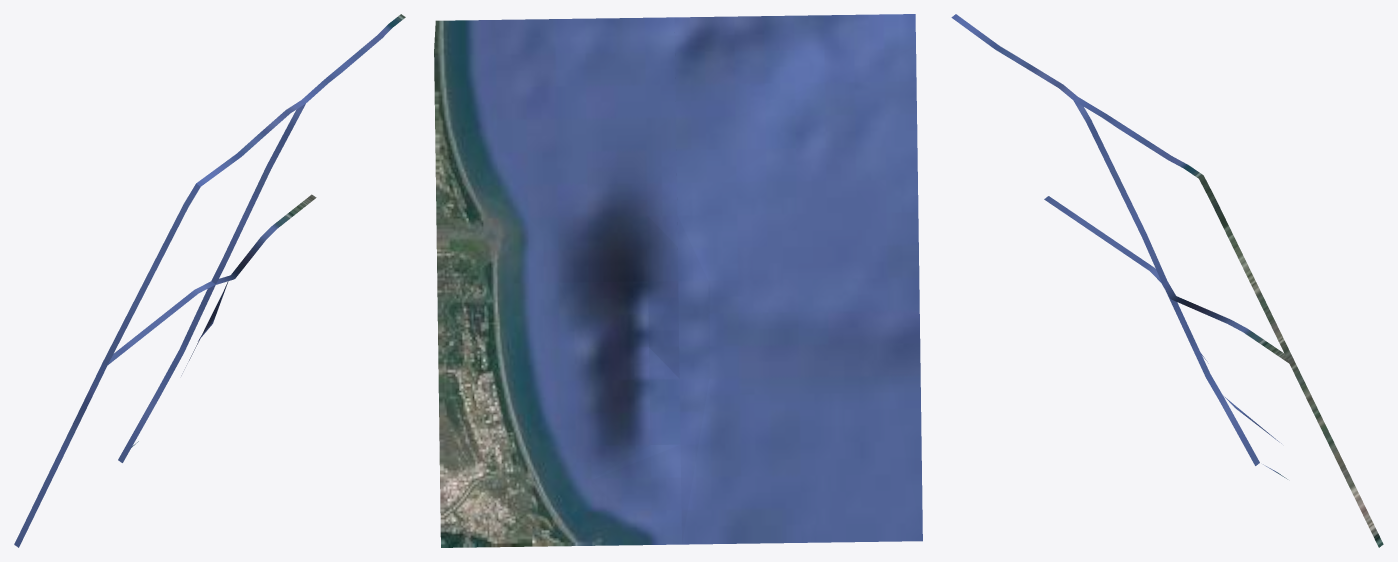
3 renders of one model, left to right at view 1: azimuth 30°, elevation 25°; view 2: azimuth 150°, elevation 25°; view 3: azimuth 270°, elevation 25°, orthographic. The views are drawn at different scales.
Bounding box in the file's own units: 19518 × 17977 × 16797.
1 material, 1 textured.
